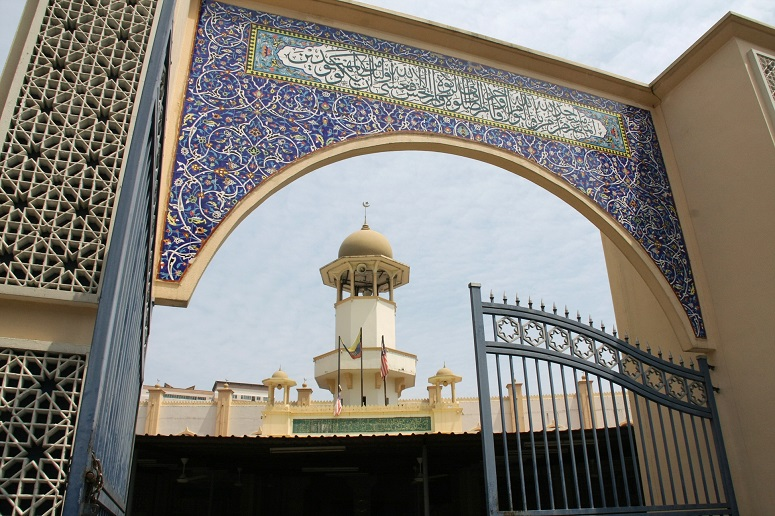Mosque: (320, 198, 411, 397)
